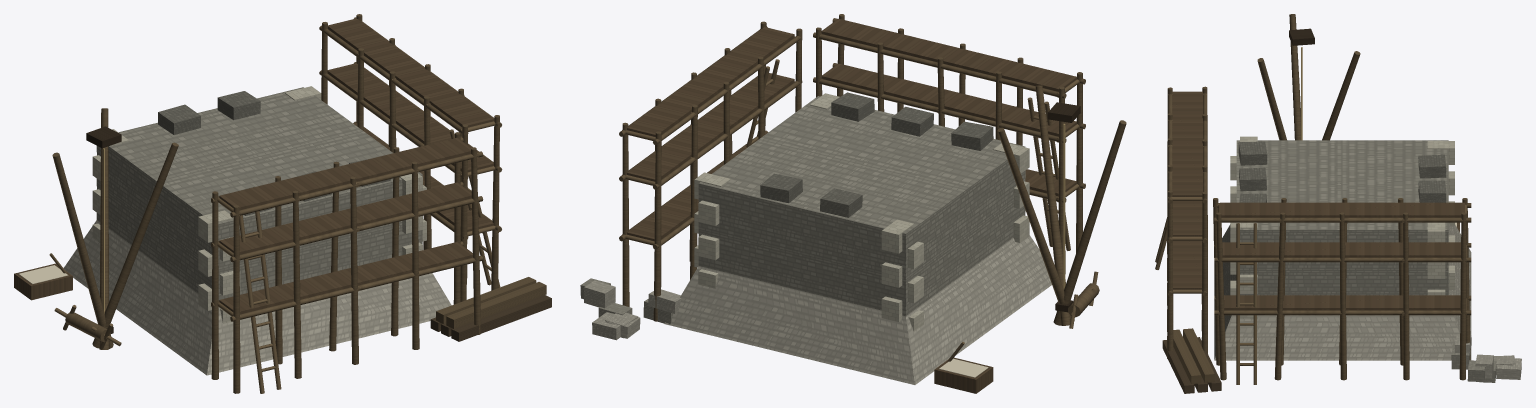
The model's file is rat-4-construction.glb.
The picture shows the model from 3 angles, left to right: view 1: azimuth 30°, elevation 25°; view 2: azimuth 150°, elevation 25°; view 3: azimuth 270°, elevation 25°; orthographic projection. The views are drawn at different scales.
Size of the model in its own units: 22.07 by 10.57 by 17.98.
Materials: 18 (15 with a texture image).
